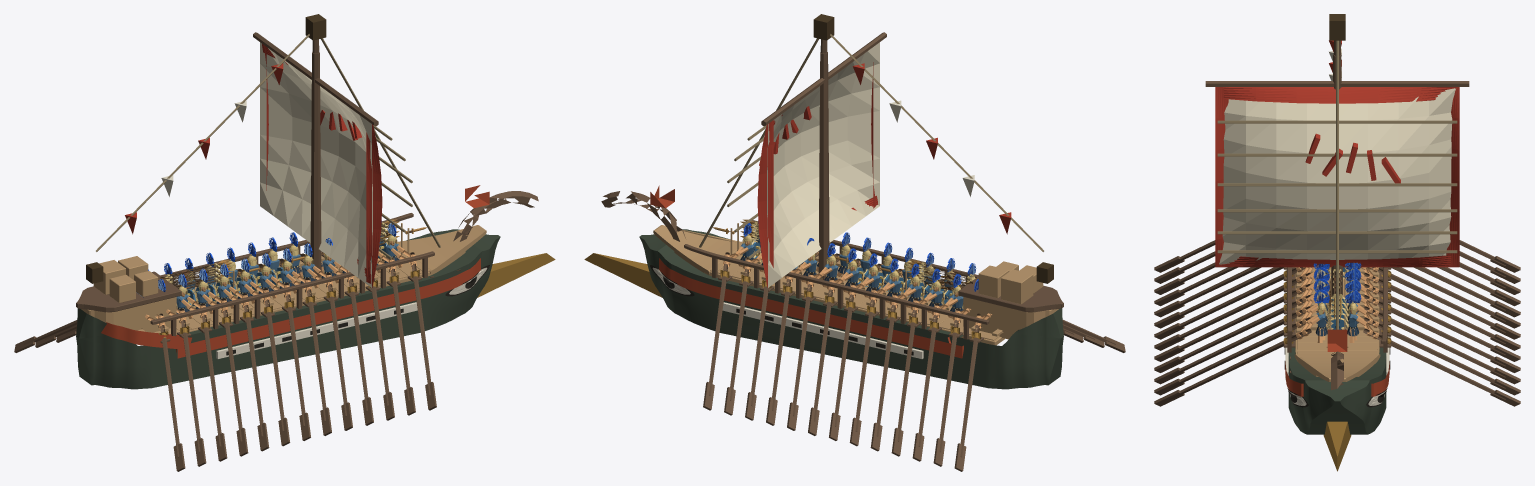
File: warship-battle-v9.glb
3 views of the same model, side by side, from view 1: azimuth 30°, elevation 25°; view 2: azimuth 150°, elevation 25°; view 3: azimuth 270°, elevation 25° (orthographic). The views are drawn at different scales.
Visible parts, largest first — view 1: sail, hull-low, n27, mast, n295, Bow transfer deck, n281, n283, n253, n31, hull-prow, n29 (+6 smaller); view 2: sail, hull-low, n3, mast, n293, n281, Bow transfer deck, n233, n7, n283, hull-prow, n273 (+7 smaller); view 3: sail, hull-low, n297, n299, n293, n295, n289, Bow transfer deck, n301, n303, n305, n307 (+29 smaller).
Part boxes in pixels (box(x1,y1,x2,y2)): sail: box(260, 42, 372, 287); hull-low: box(76, 229, 500, 389); n27: box(176, 258, 480, 358); mast: box(310, 52, 321, 280); n295: box(366, 125, 382, 285); Bow transfer deck: box(397, 225, 486, 274); n281: box(81, 297, 176, 332); n283: box(76, 271, 181, 312); n253: box(150, 251, 434, 324); n31: box(216, 302, 417, 358); hull-prow: box(477, 253, 555, 297); n29: box(101, 322, 191, 348); sail: box(767, 42, 879, 287); hull-low: box(639, 229, 1063, 389); n3: box(659, 258, 963, 358); mast: box(818, 52, 829, 280); n293: box(757, 120, 773, 285); n281: box(963, 297, 1058, 339); Bow transfer deck: box(653, 225, 742, 274); n233: box(684, 244, 989, 324); n7: box(722, 302, 923, 358); n283: box(958, 276, 1063, 312); hull-prow: box(584, 253, 662, 297); n273: box(1001, 269, 1033, 304); sail: box(1219, 88, 1455, 264); hull-low: box(1288, 285, 1386, 434); n297: box(1223, 87, 1454, 103); n299: box(1215, 255, 1451, 267); n293: box(1446, 87, 1459, 267); n295: box(1215, 87, 1228, 266); n289: box(1205, 81, 1469, 86); Bow transfer deck: box(1294, 354, 1380, 381); n301: box(1217, 250, 1457, 253); n303: box(1217, 231, 1457, 234); n305: box(1217, 209, 1457, 212); n307: box(1217, 183, 1457, 186).
Size of the model in its own units: 6.16 by 4.2 by 3.75.
